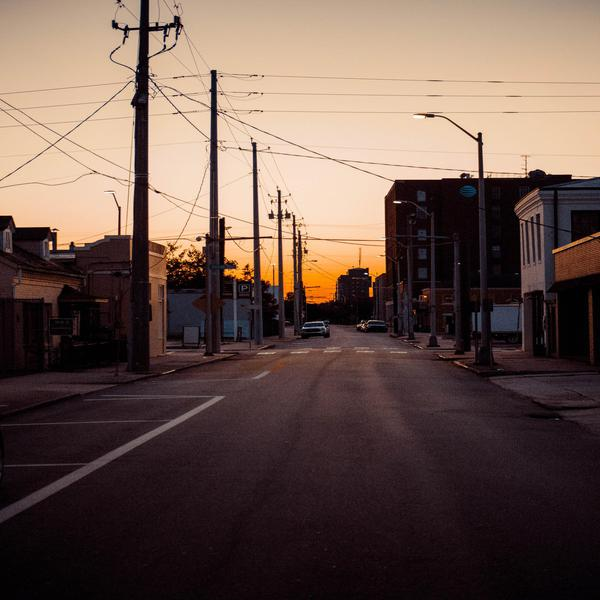utility_pole: (98, 1, 188, 73), (175, 60, 250, 132), (231, 129, 275, 177), (267, 184, 293, 222)
